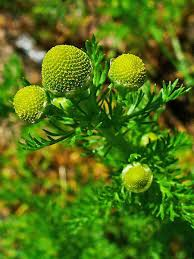pineple: (95, 46, 194, 152), (1, 43, 96, 153)
